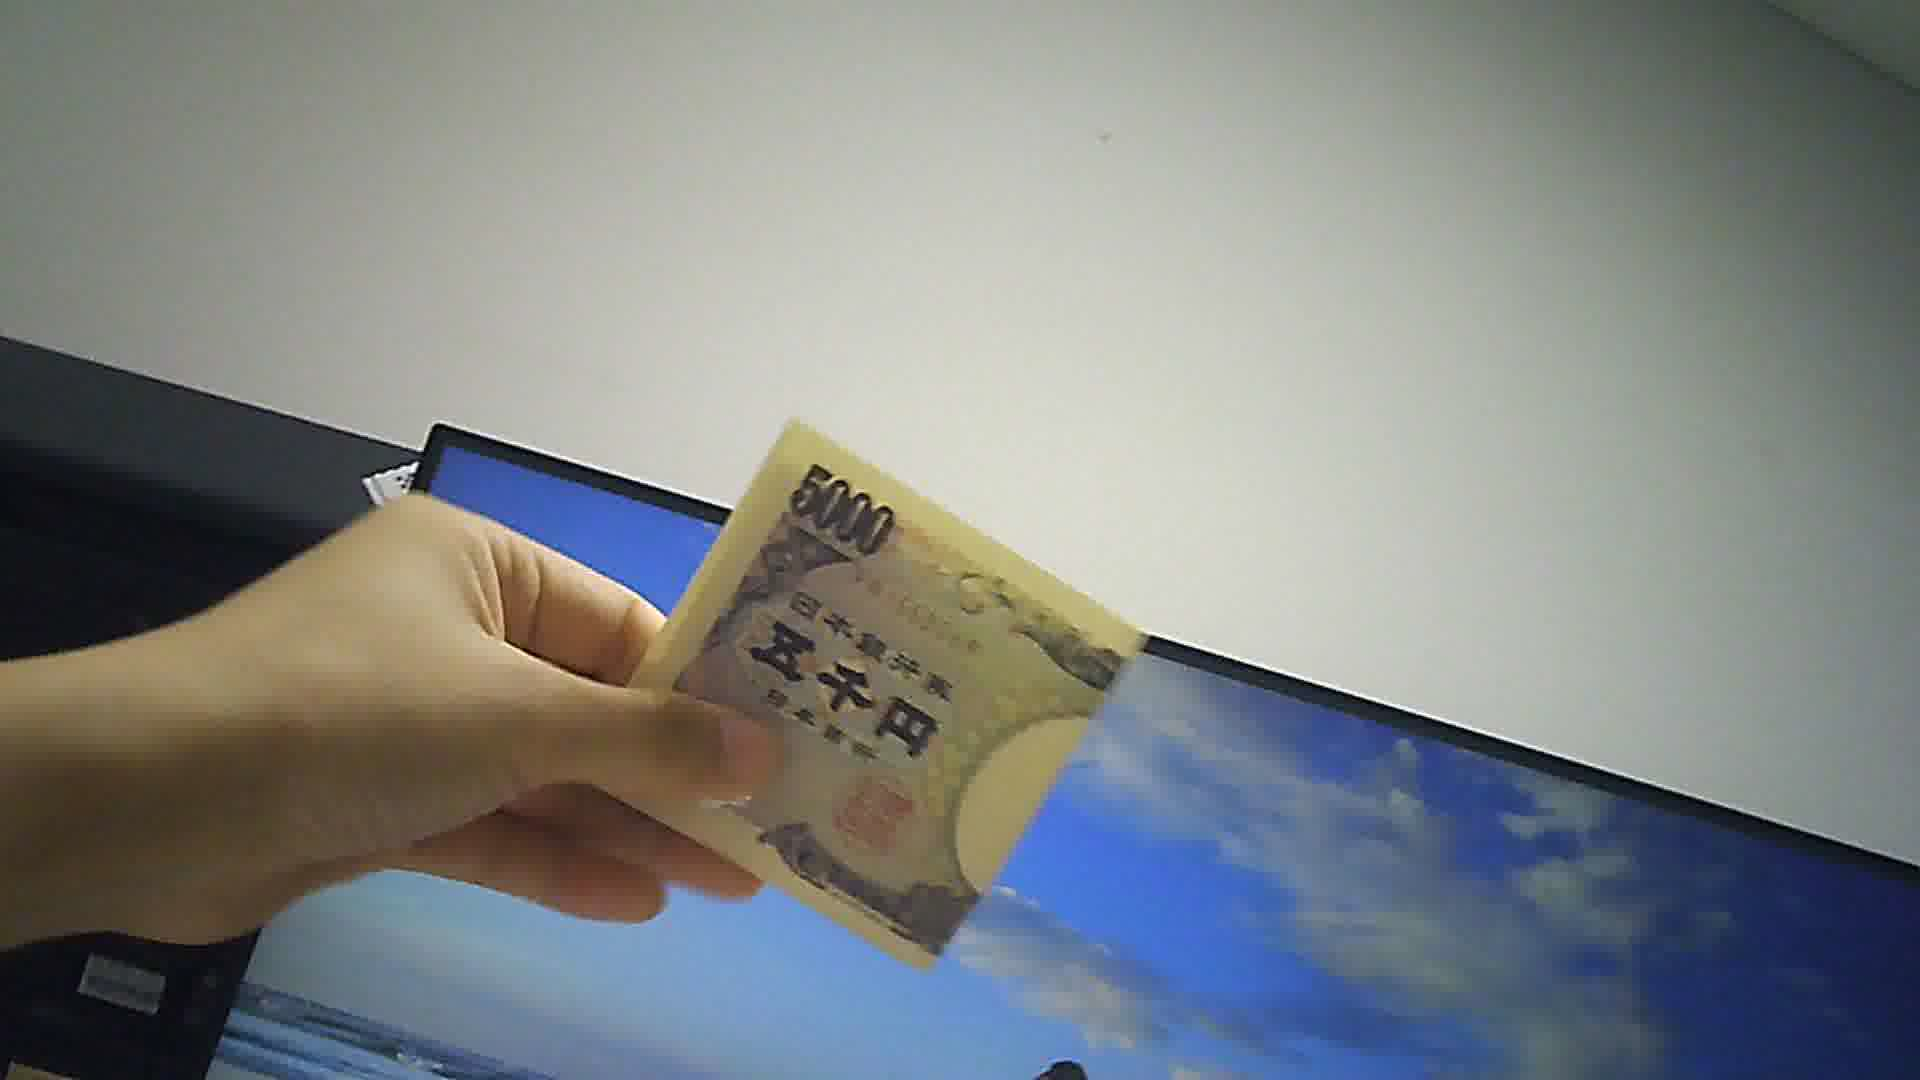5,000 Yen: (601, 425, 1145, 973)
